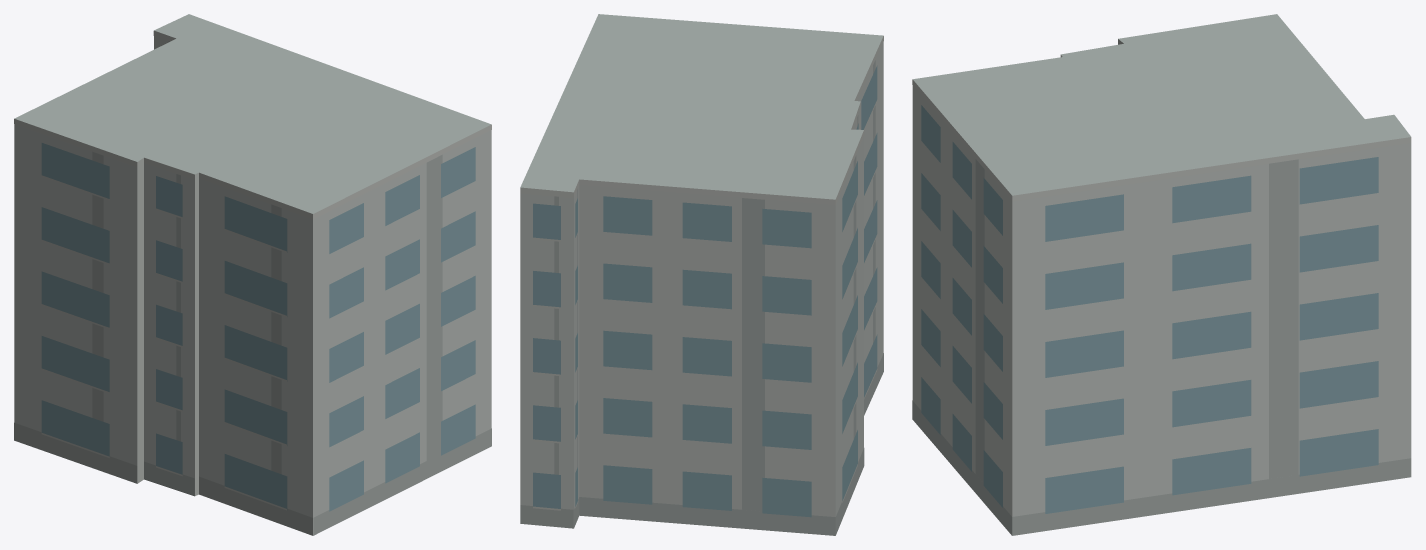
File: survey-upis-32881019.glb
3 views of the same model, side by side, from view 1: azimuth 30°, elevation 25°; view 2: azimuth 150°, elevation 25°; view 3: azimuth 270°, elevation 25° (orthographic). The views are drawn at different scales.
Parts seen in each view (by area): view 1: survey-upis-32881019.tmp; view 2: survey-upis-32881019.tmp; view 3: survey-upis-32881019.tmp.
Part boxes in pixels (x1,y1,x2,y2): survey-upis-32881019.tmp: [14, 14, 491, 535]; survey-upis-32881019.tmp: [520, 14, 883, 535]; survey-upis-32881019.tmp: [912, 14, 1411, 535].
Bounding box in the file's own units: 16.45 × 14.35 × 19.08.
